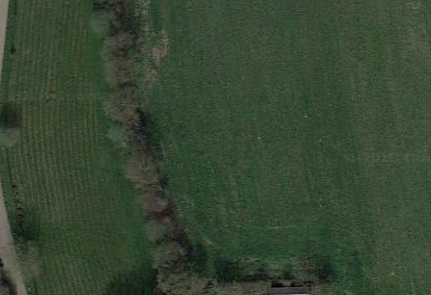tree: (1, 225, 53, 288), (1, 111, 28, 152)
